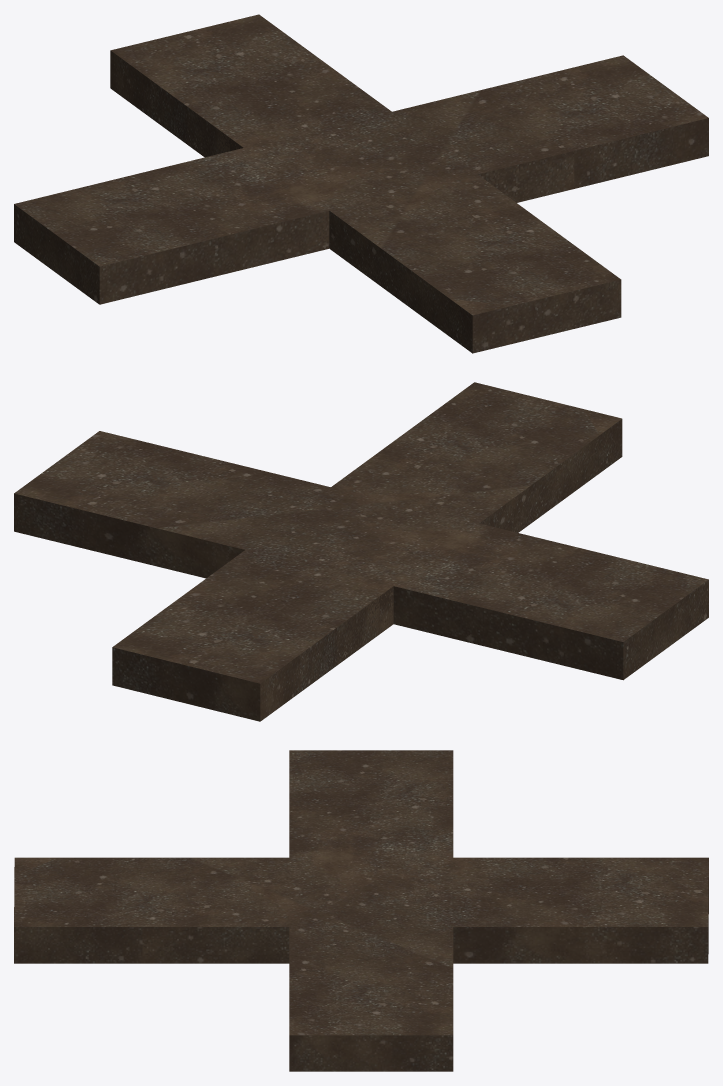
Rendered from road_xjunction.fbx.
3 renders of one model, top to bottom at view 1: azimuth 30°, elevation 25°; view 2: azimuth 150°, elevation 25°; view 3: azimuth 270°, elevation 25°, orthographic. The views are drawn at different scales.
Parts seen in each view (by area): view 1: dirt_road_xjunction; view 2: dirt_road_xjunction; view 3: dirt_road_xjunction.
Part boxes in pixels (x1,y1,x2,y2): dirt_road_xjunction: (14,14,708,353); dirt_road_xjunction: (14,382,708,721); dirt_road_xjunction: (14,750,708,1071).
Size of the model in its own units: 3438 by 205 by 3542.
